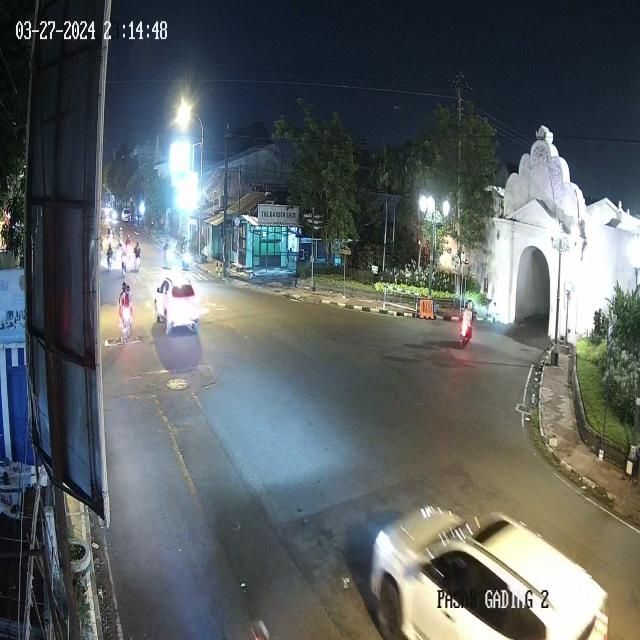car: (363, 496, 611, 640), (155, 274, 200, 333)
motorcycle: (119, 281, 133, 340), (459, 299, 473, 351), (133, 241, 143, 272), (164, 240, 173, 273), (106, 243, 115, 273), (182, 238, 190, 270), (121, 245, 128, 272), (118, 227, 125, 247), (126, 235, 132, 258)
